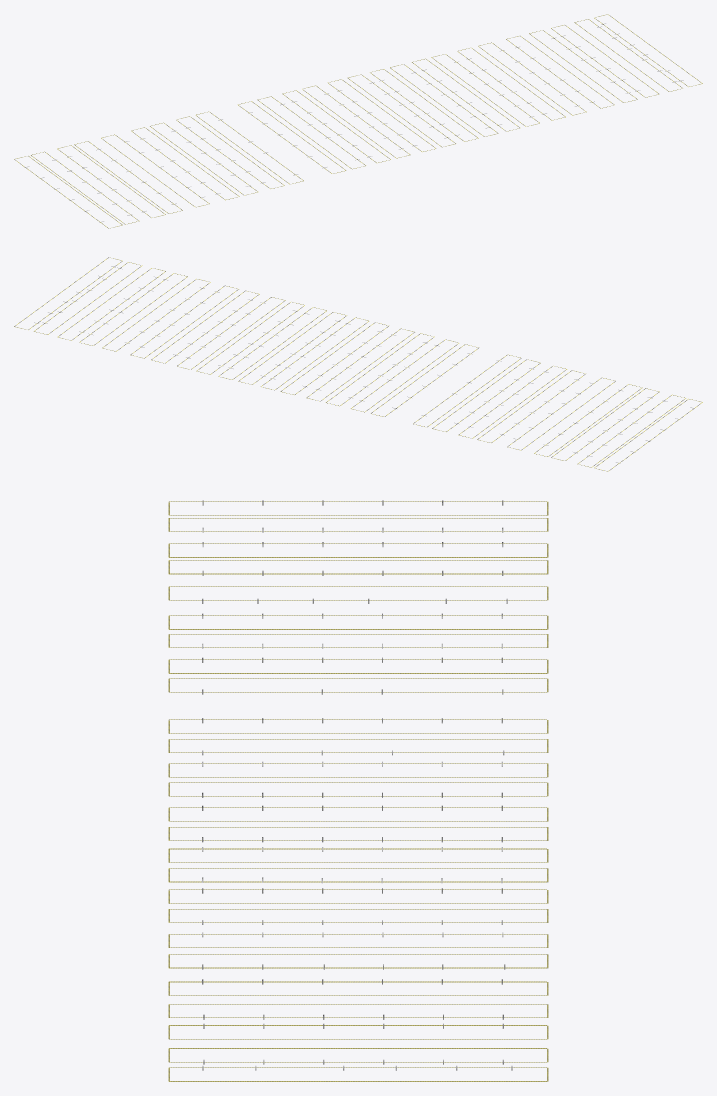
Rendered from waring.glb.
The picture shows the model from 3 angles, top to bottom: view 1: azimuth 30°, elevation 25°; view 2: azimuth 150°, elevation 25°; view 3: azimuth 270°, elevation 25°; orthographic projection. The views are drawn at different scales.
Size of the model in its own units: 3900 by 0.5021 by 1077.
2 materials, 2 textured.
